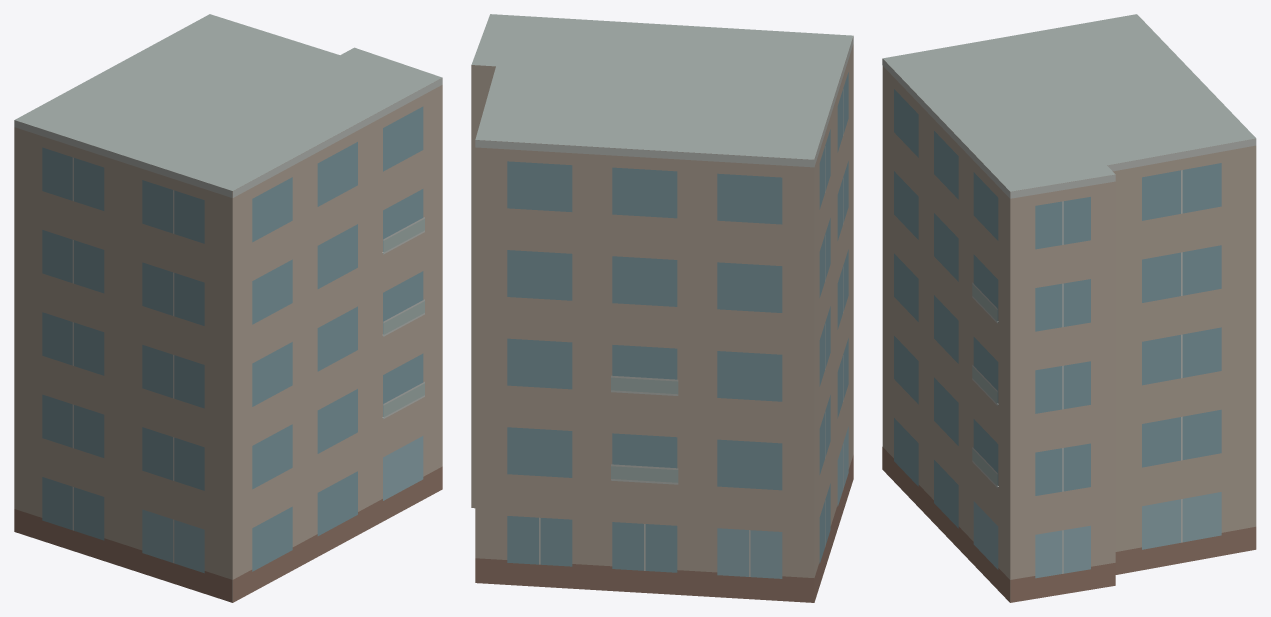
The model's file is survey-upis-32859639.glb.
3 views of the same model, side by side, from view 1: azimuth 30°, elevation 25°; view 2: azimuth 150°, elevation 25°; view 3: azimuth 270°, elevation 25° (orthographic). The views are drawn at different scales.
Parts seen in each view (by area): view 1: survey-upis-32859639.tmp; view 2: survey-upis-32859639.tmp; view 3: survey-upis-32859639.tmp.
Boxes of the visible parts, x1,y1,x2,y2 form: survey-upis-32859639.tmp: [14, 14, 442, 602]; survey-upis-32859639.tmp: [471, 14, 853, 602]; survey-upis-32859639.tmp: [882, 14, 1256, 602].
Bounding box in the file's own units: 13.17 × 14.2 × 11.71.
